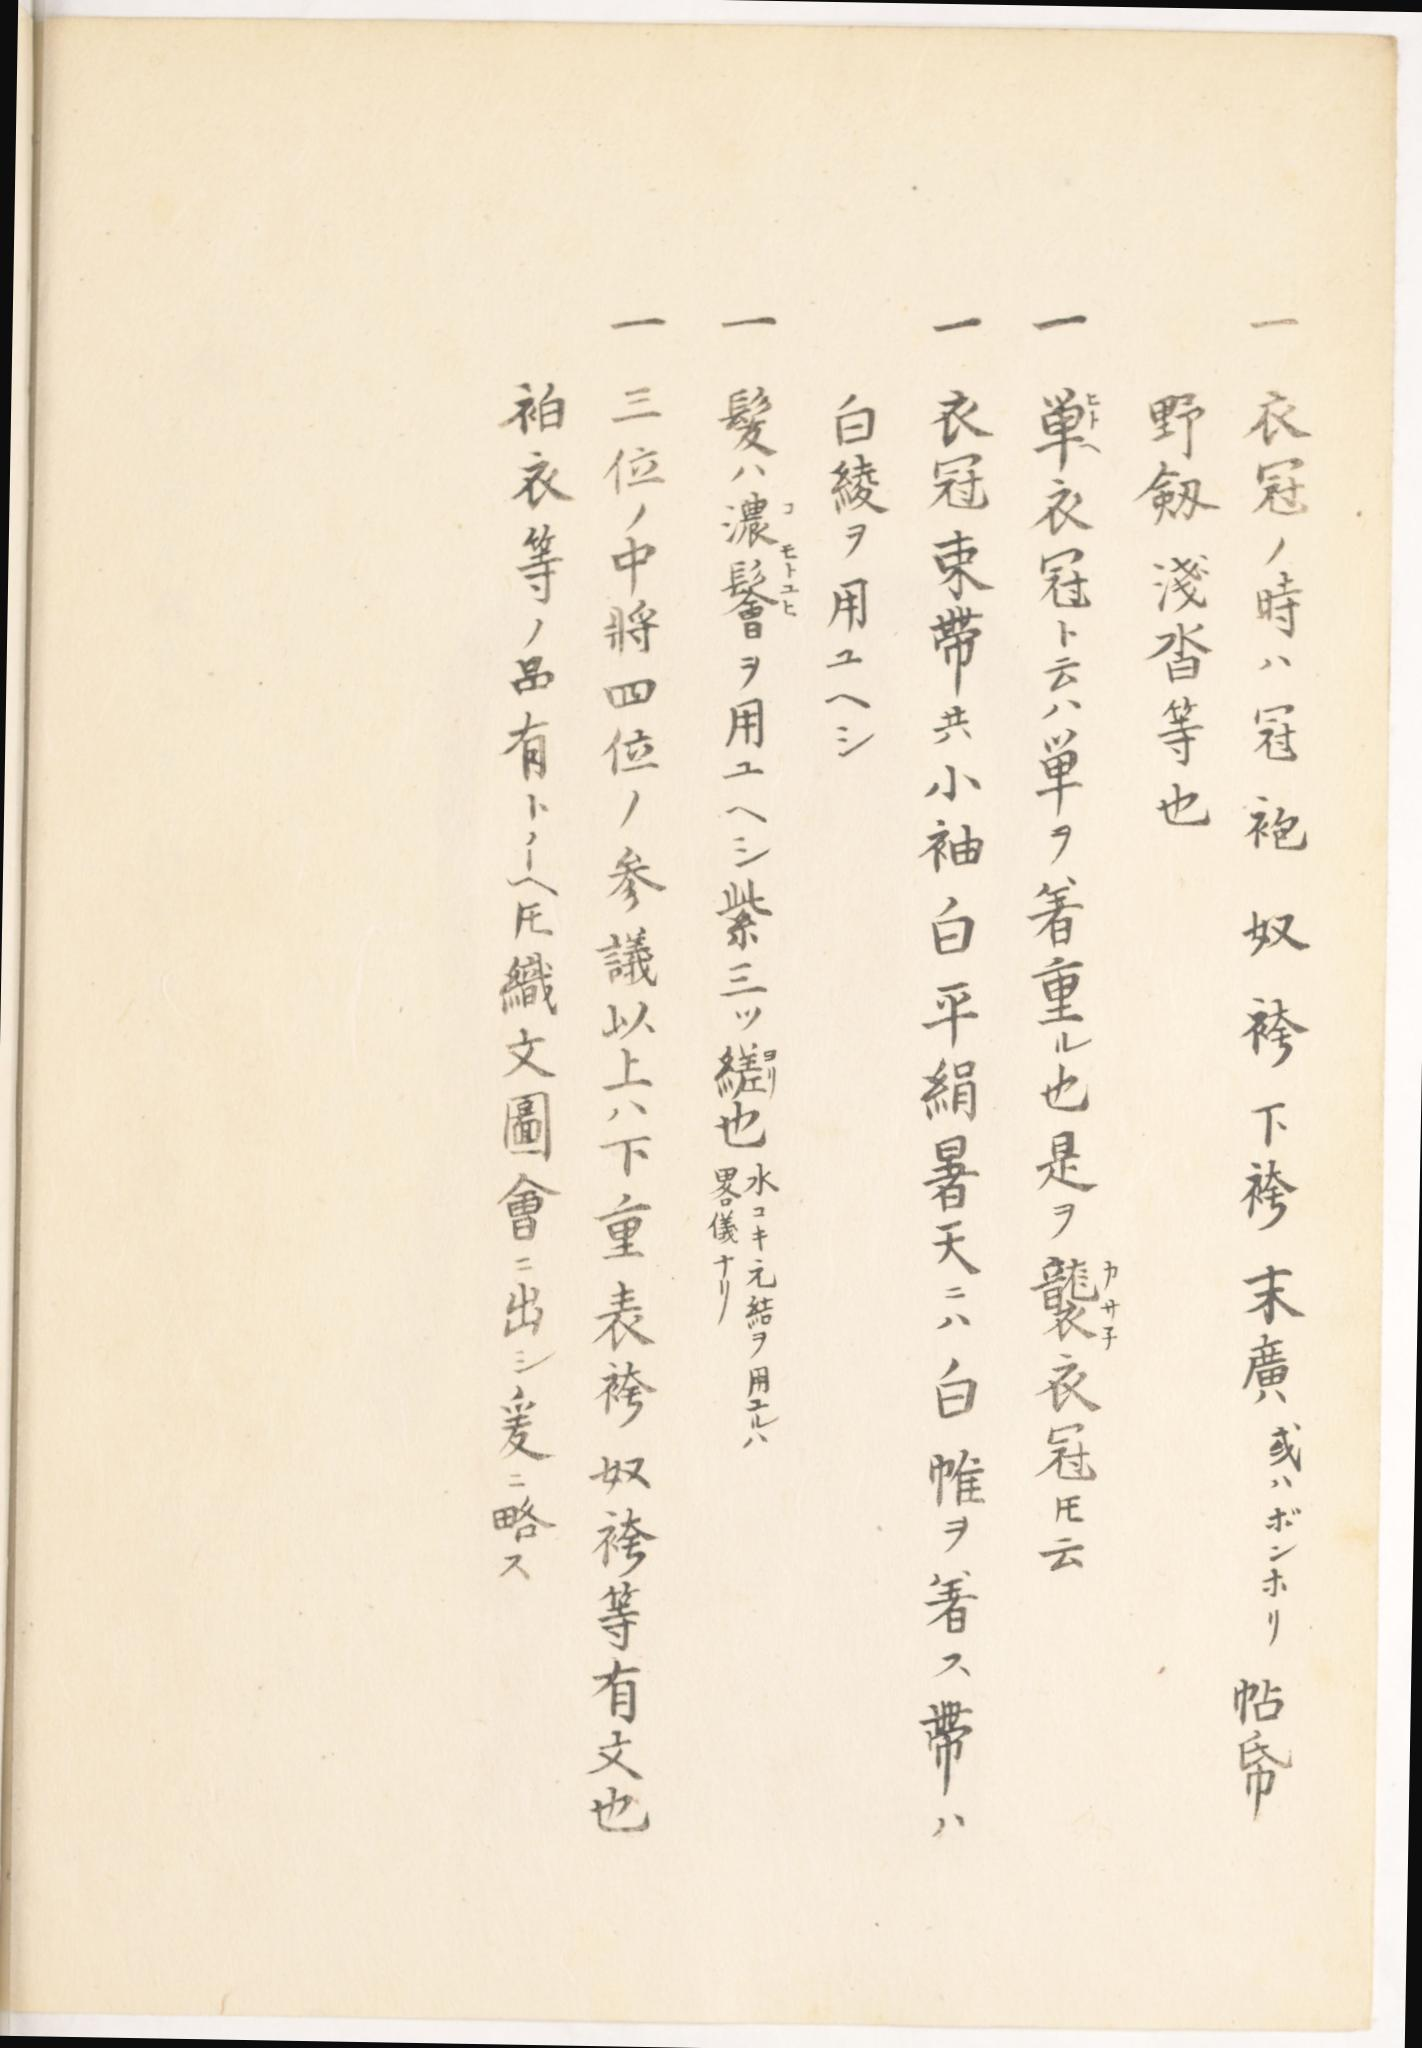MainZone-Character: (1028, 1253, 1125, 1349), (1021, 383, 1112, 473), (716, 559, 804, 640), (716, 489, 804, 560), (703, 1038, 786, 1103)
MainZone-Ruby: (1098, 1256, 1123, 1349), (1081, 389, 1108, 461), (773, 495, 801, 562), (775, 563, 801, 619), (762, 1046, 784, 1094)
